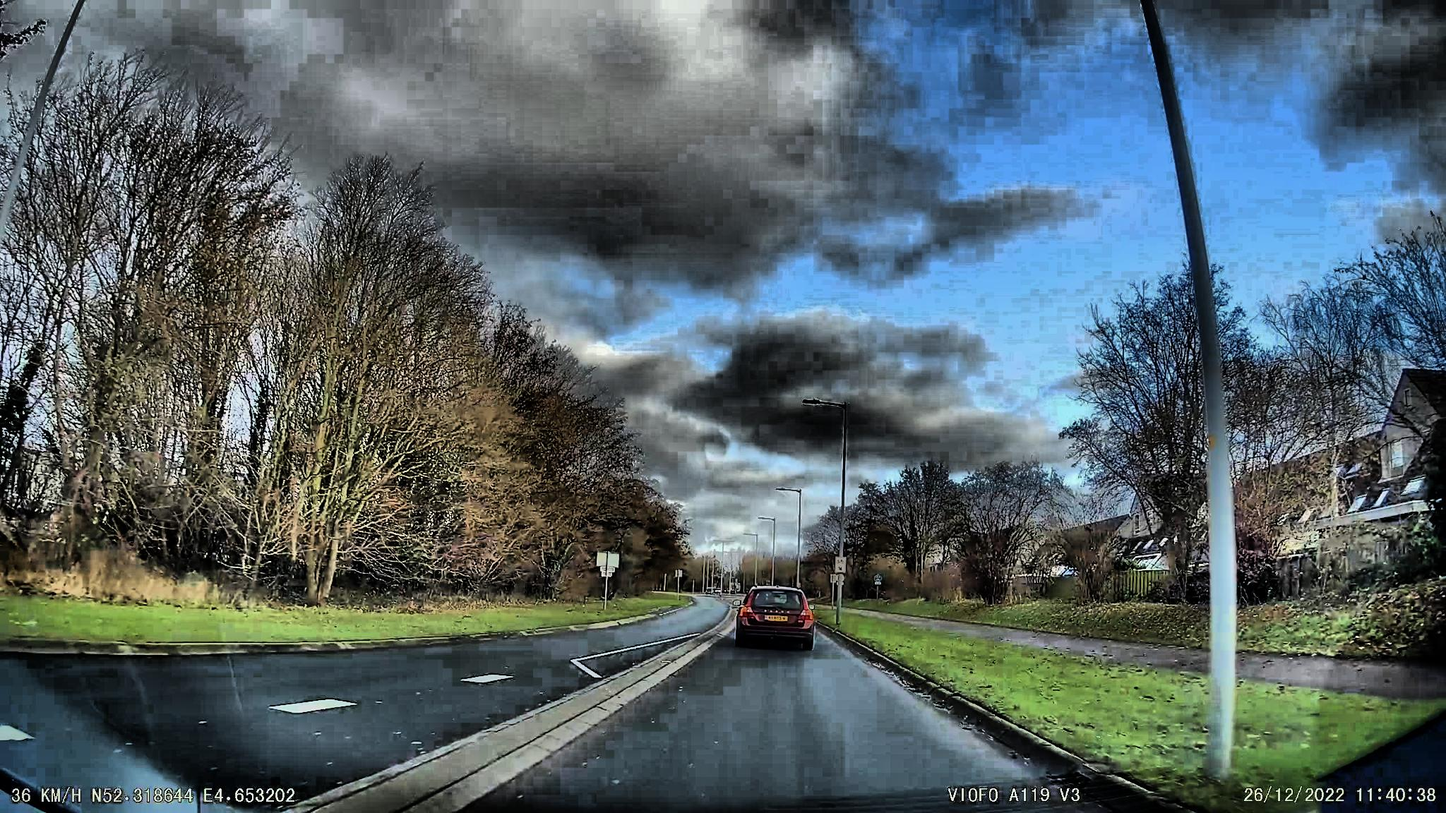Roads: (89, 597, 1164, 813)
